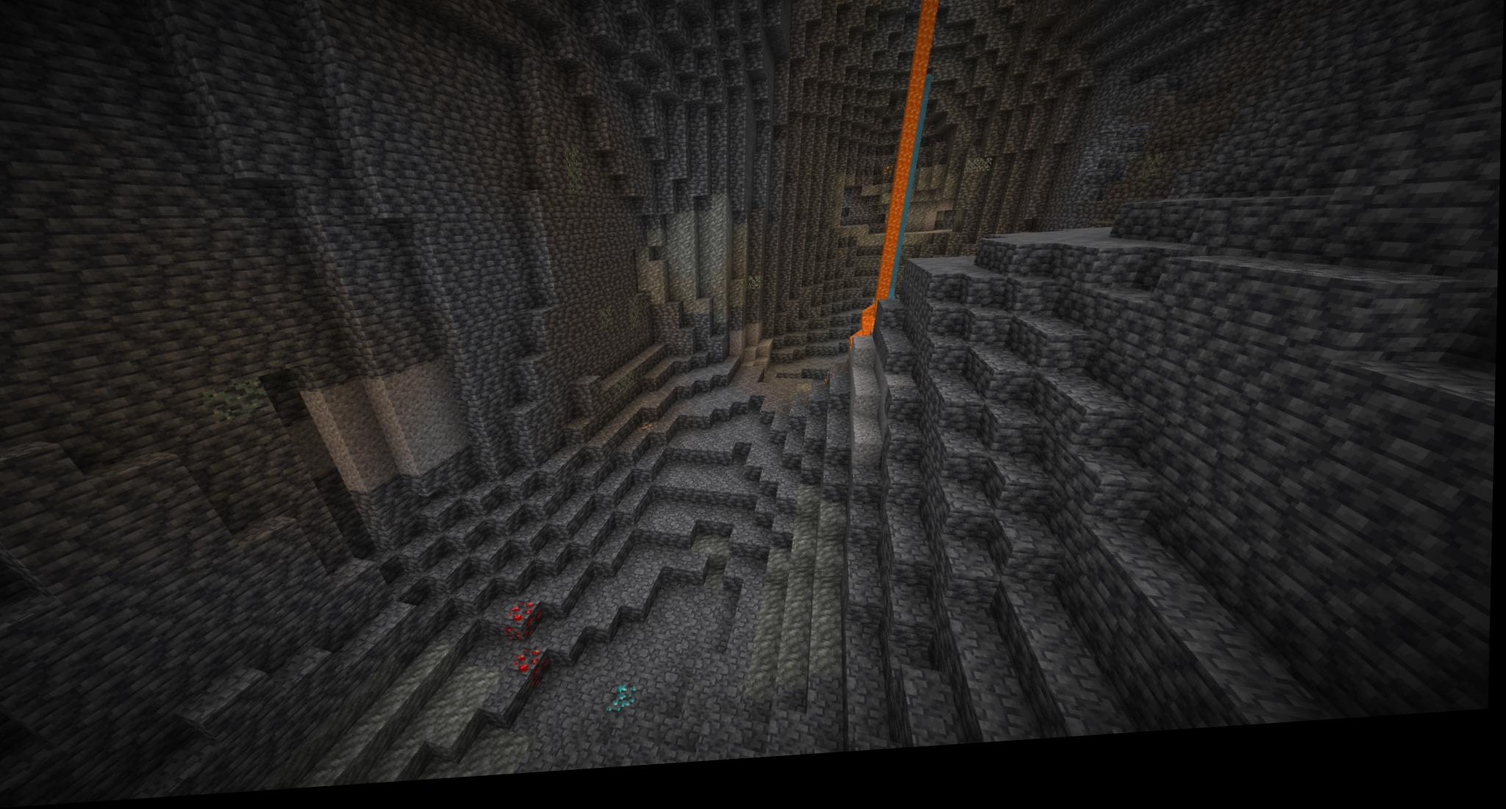diamond ore: (604, 684, 650, 728)
redstone ore: (508, 604, 547, 648), (511, 651, 550, 691)
